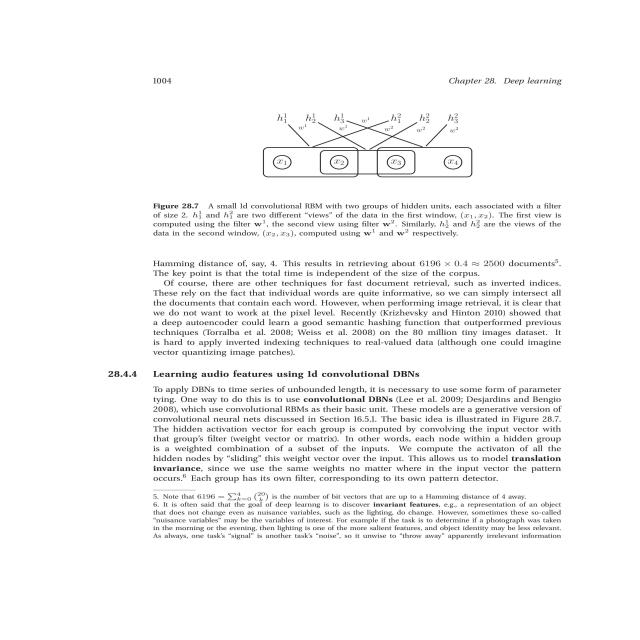diagram: (135, 68, 640, 244)
